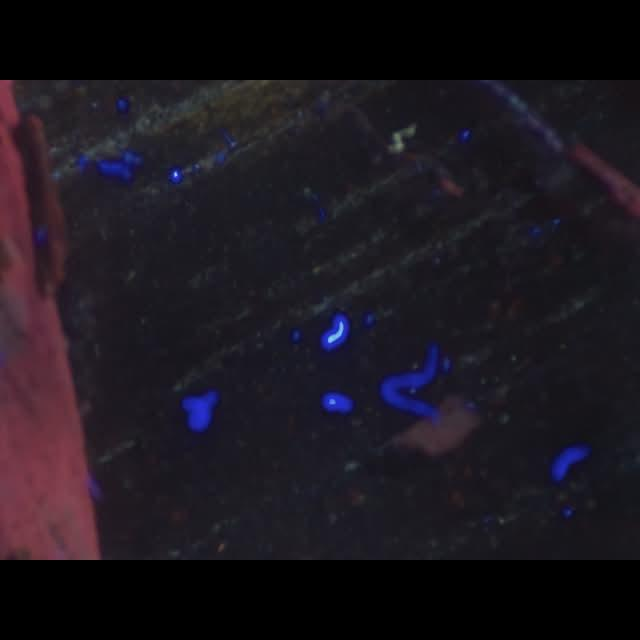Fibre: (388, 122, 416, 154)
